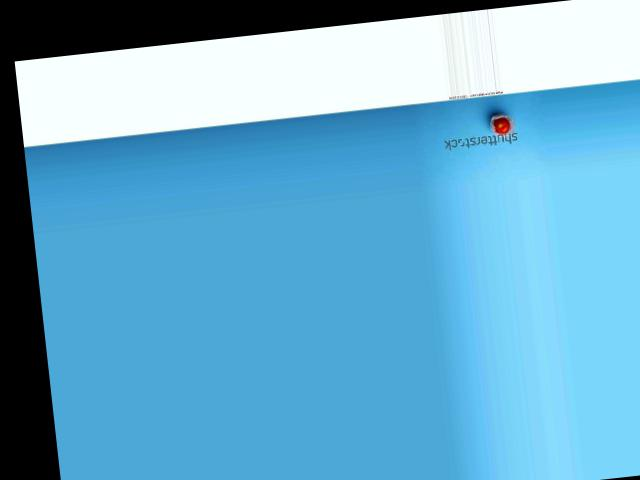tomato: (492, 117, 509, 134)
